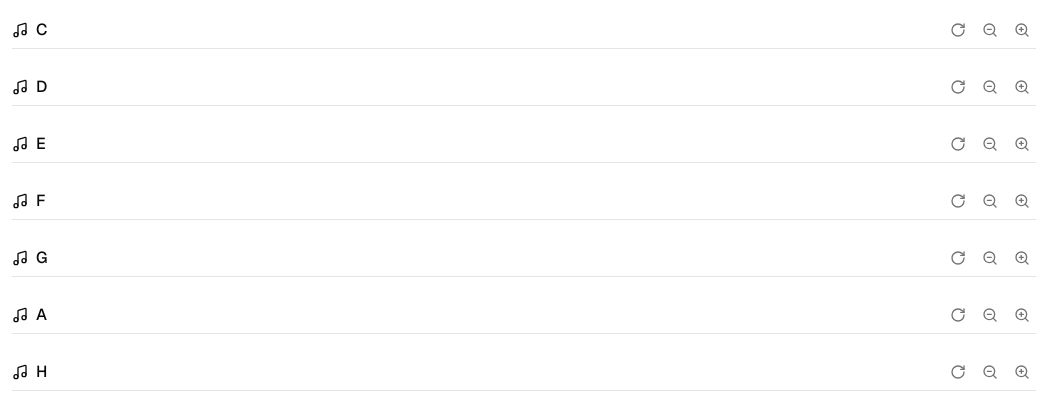
Test: disables the increase button when max size is reached
The image size is (1048, 408).
Click the 1st button named "increase" at (1022, 30), box [1008,16,1036,44]
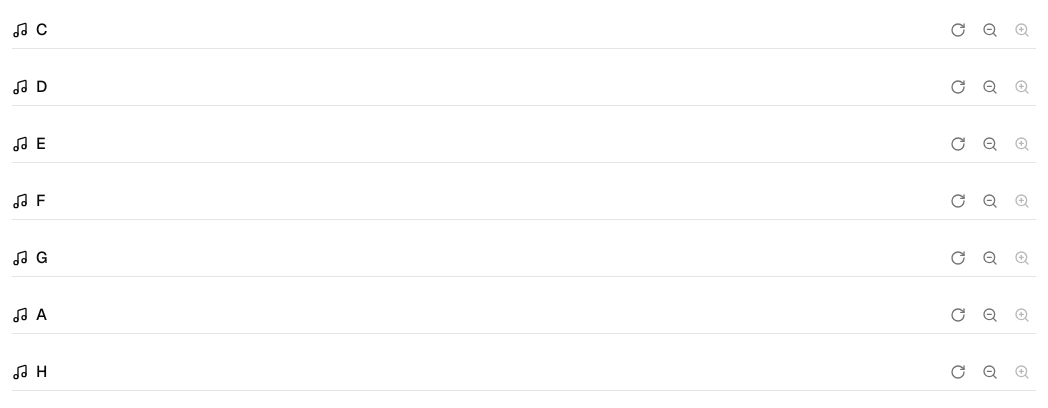
Now the 1st button named "increase" is disabled, box [1008,16,1036,44]
